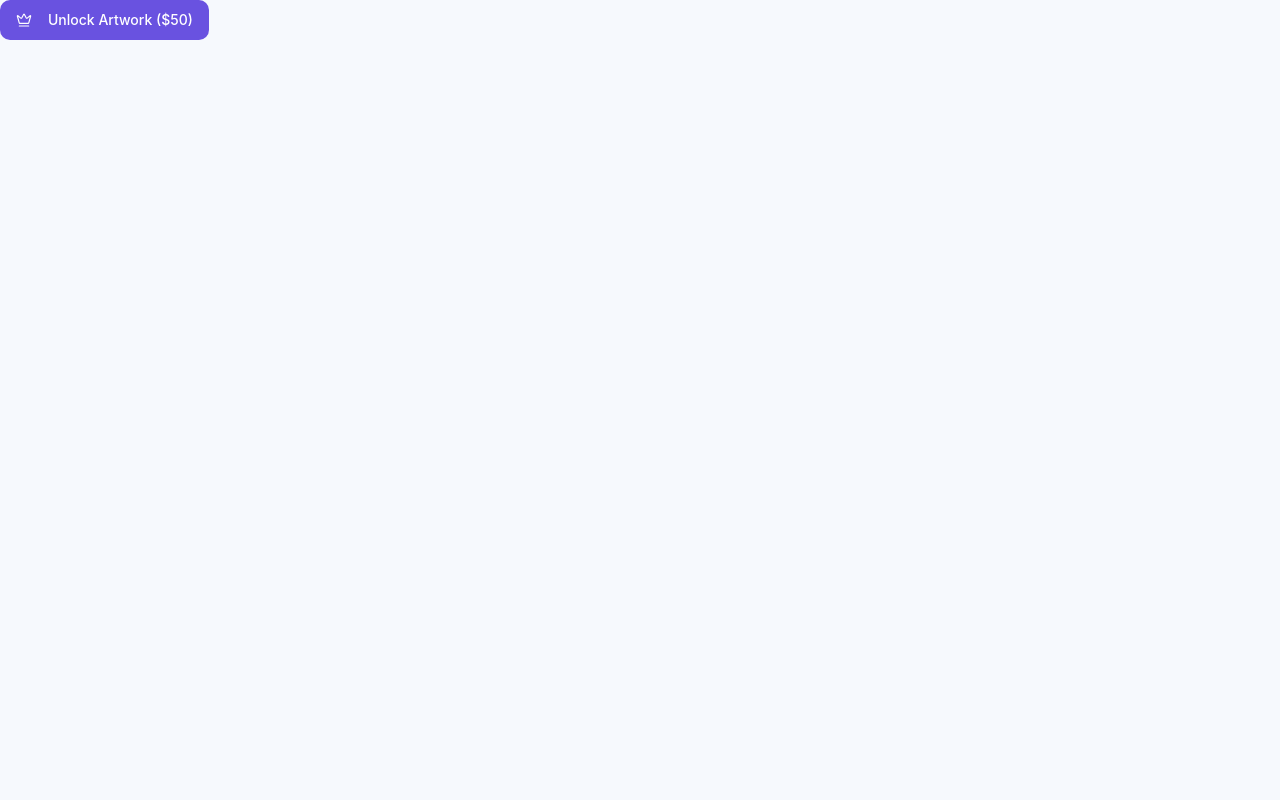
Test: PayArtworkButton — Stripe flow › restores normal state and surfaces a retry message after a generic failure
Click the button "Unlock Artwork ($50)": click(104, 20) [0,0,209,40]
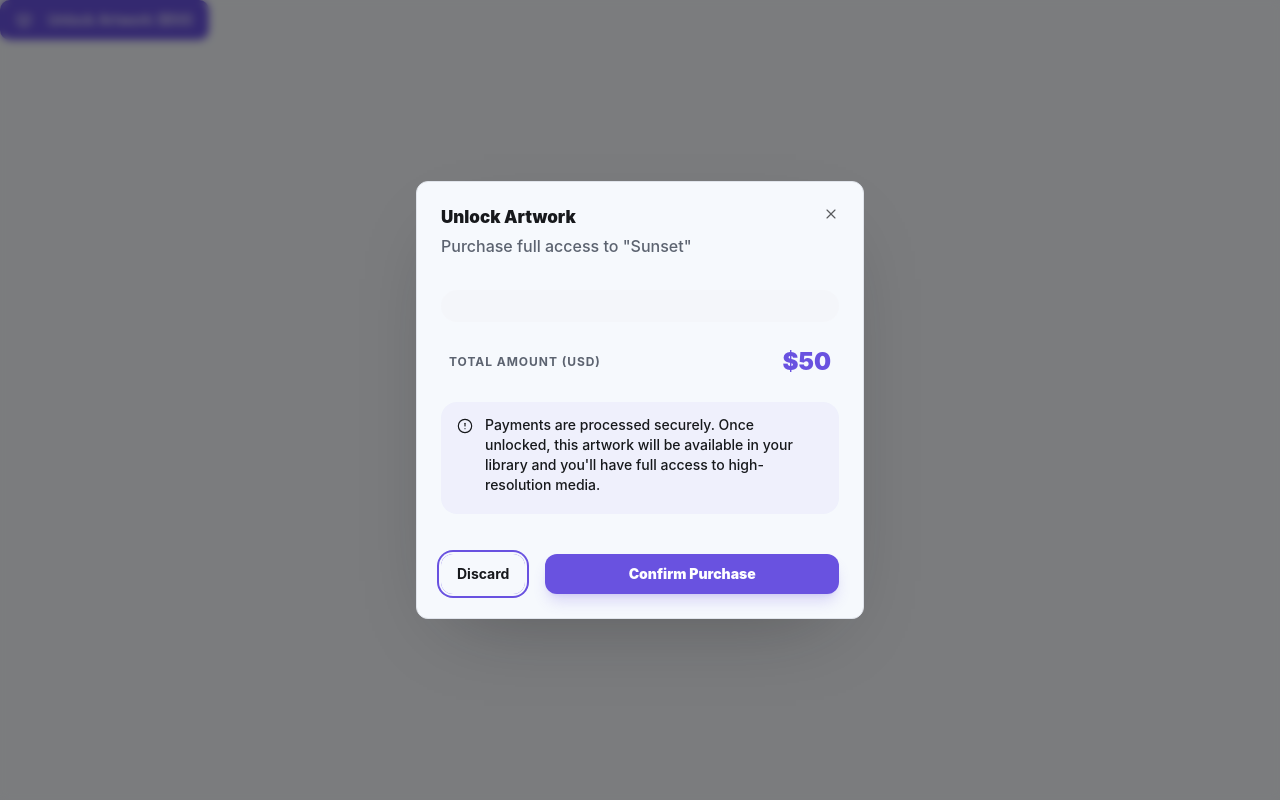
Click the button "Confirm Purchase": click(692, 574) [545,554,839,594]
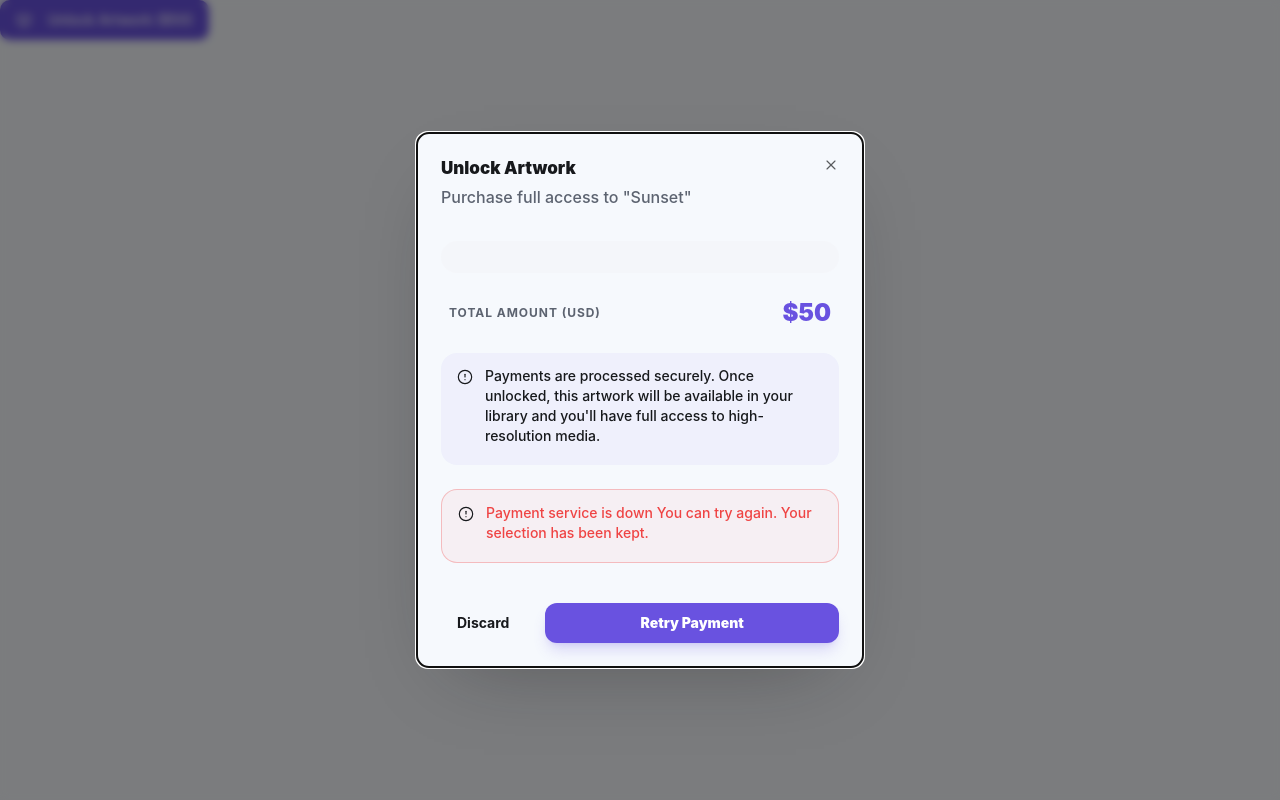
Now the button "Retry Payment" is enabled, box [545,603,839,643]
Now the message with test id "stripe-error" shows "Payment service is down", box [486,504,653,521]
Now the message with test id "stripe-error" shows "try again", box [486,504,812,541]
